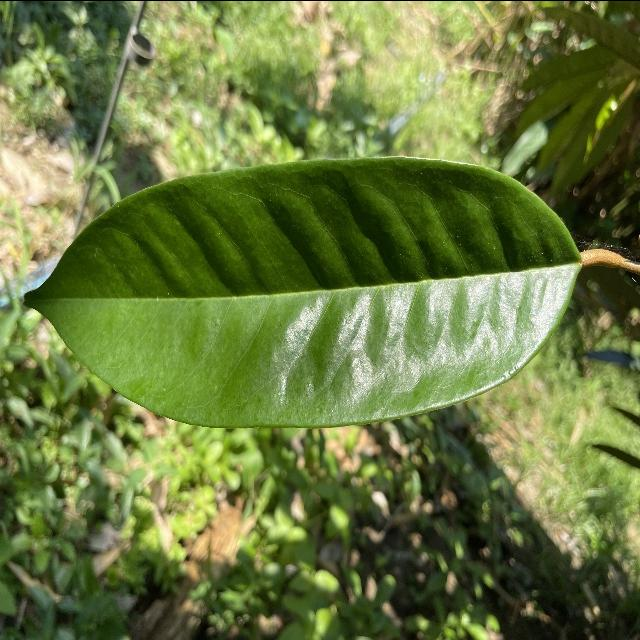No Disease: (19, 142, 587, 449)
